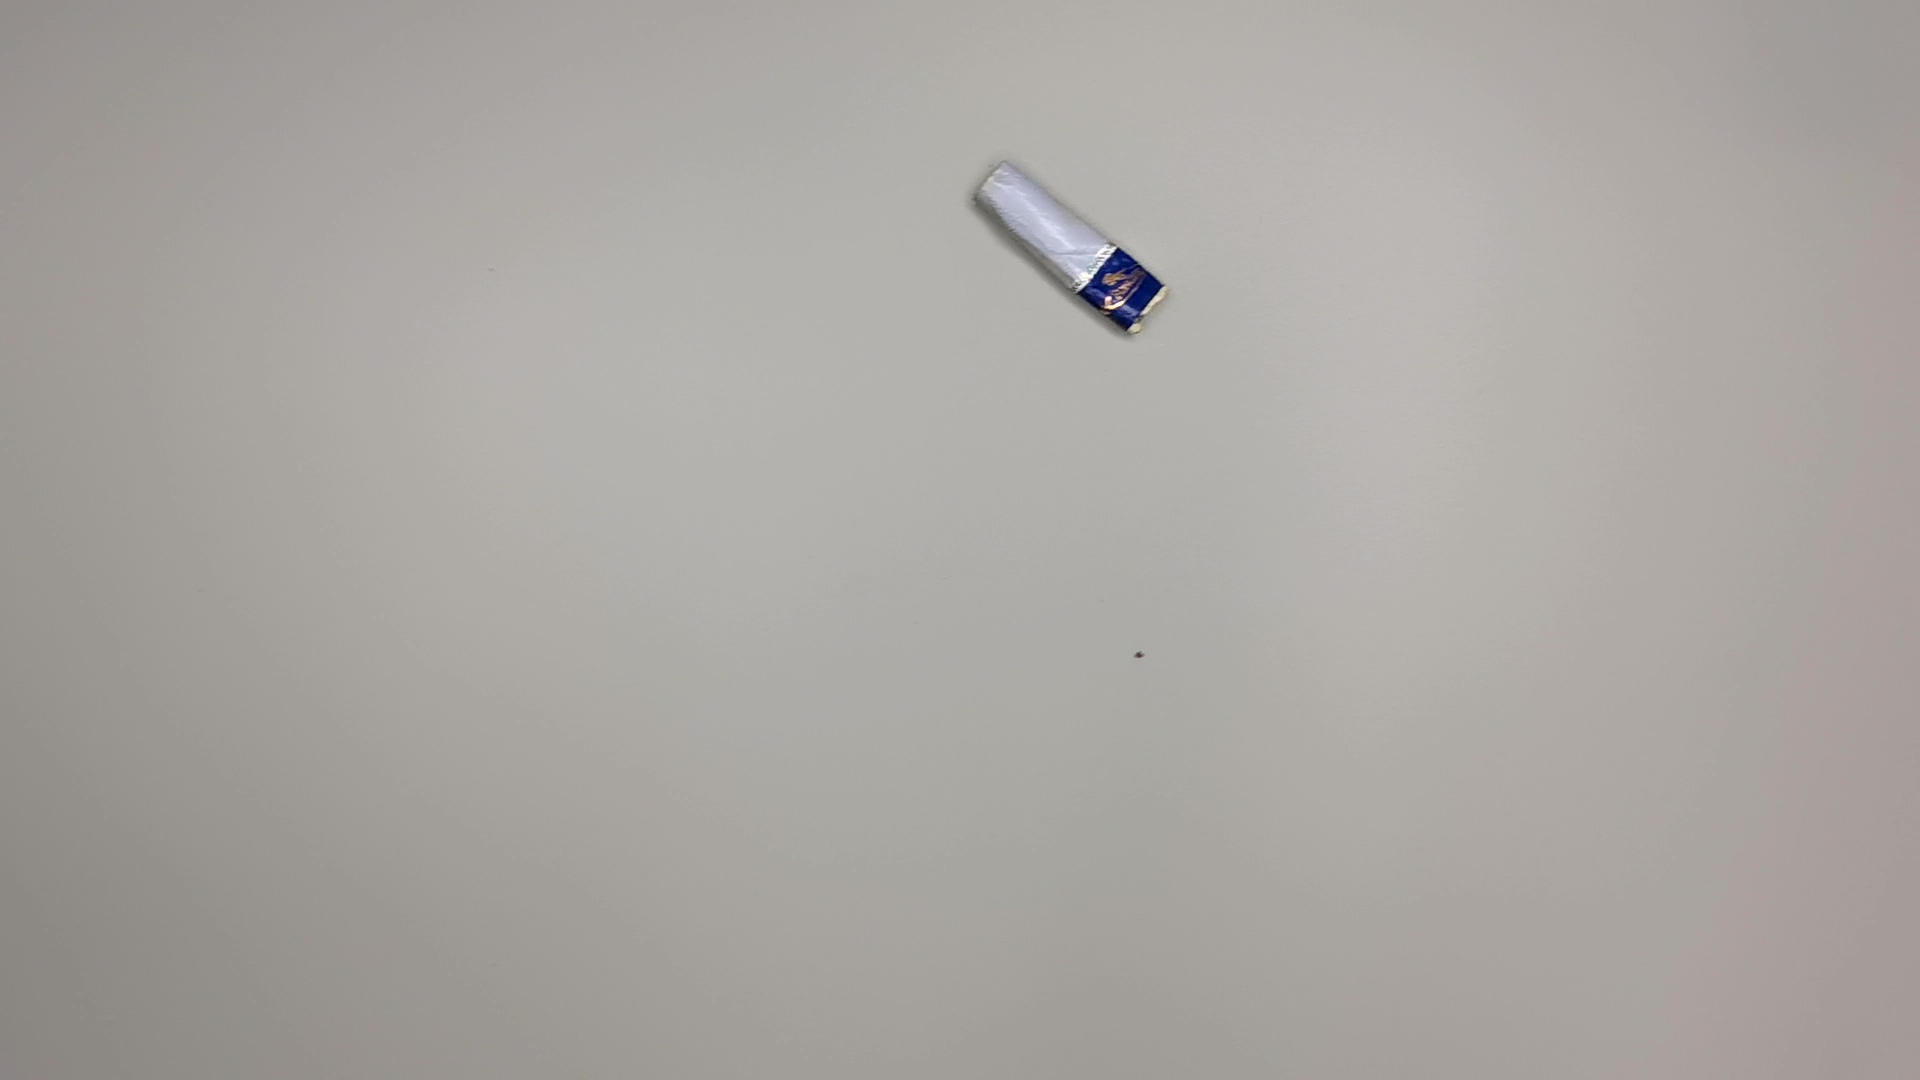cigarette: (973, 152, 1175, 345)
